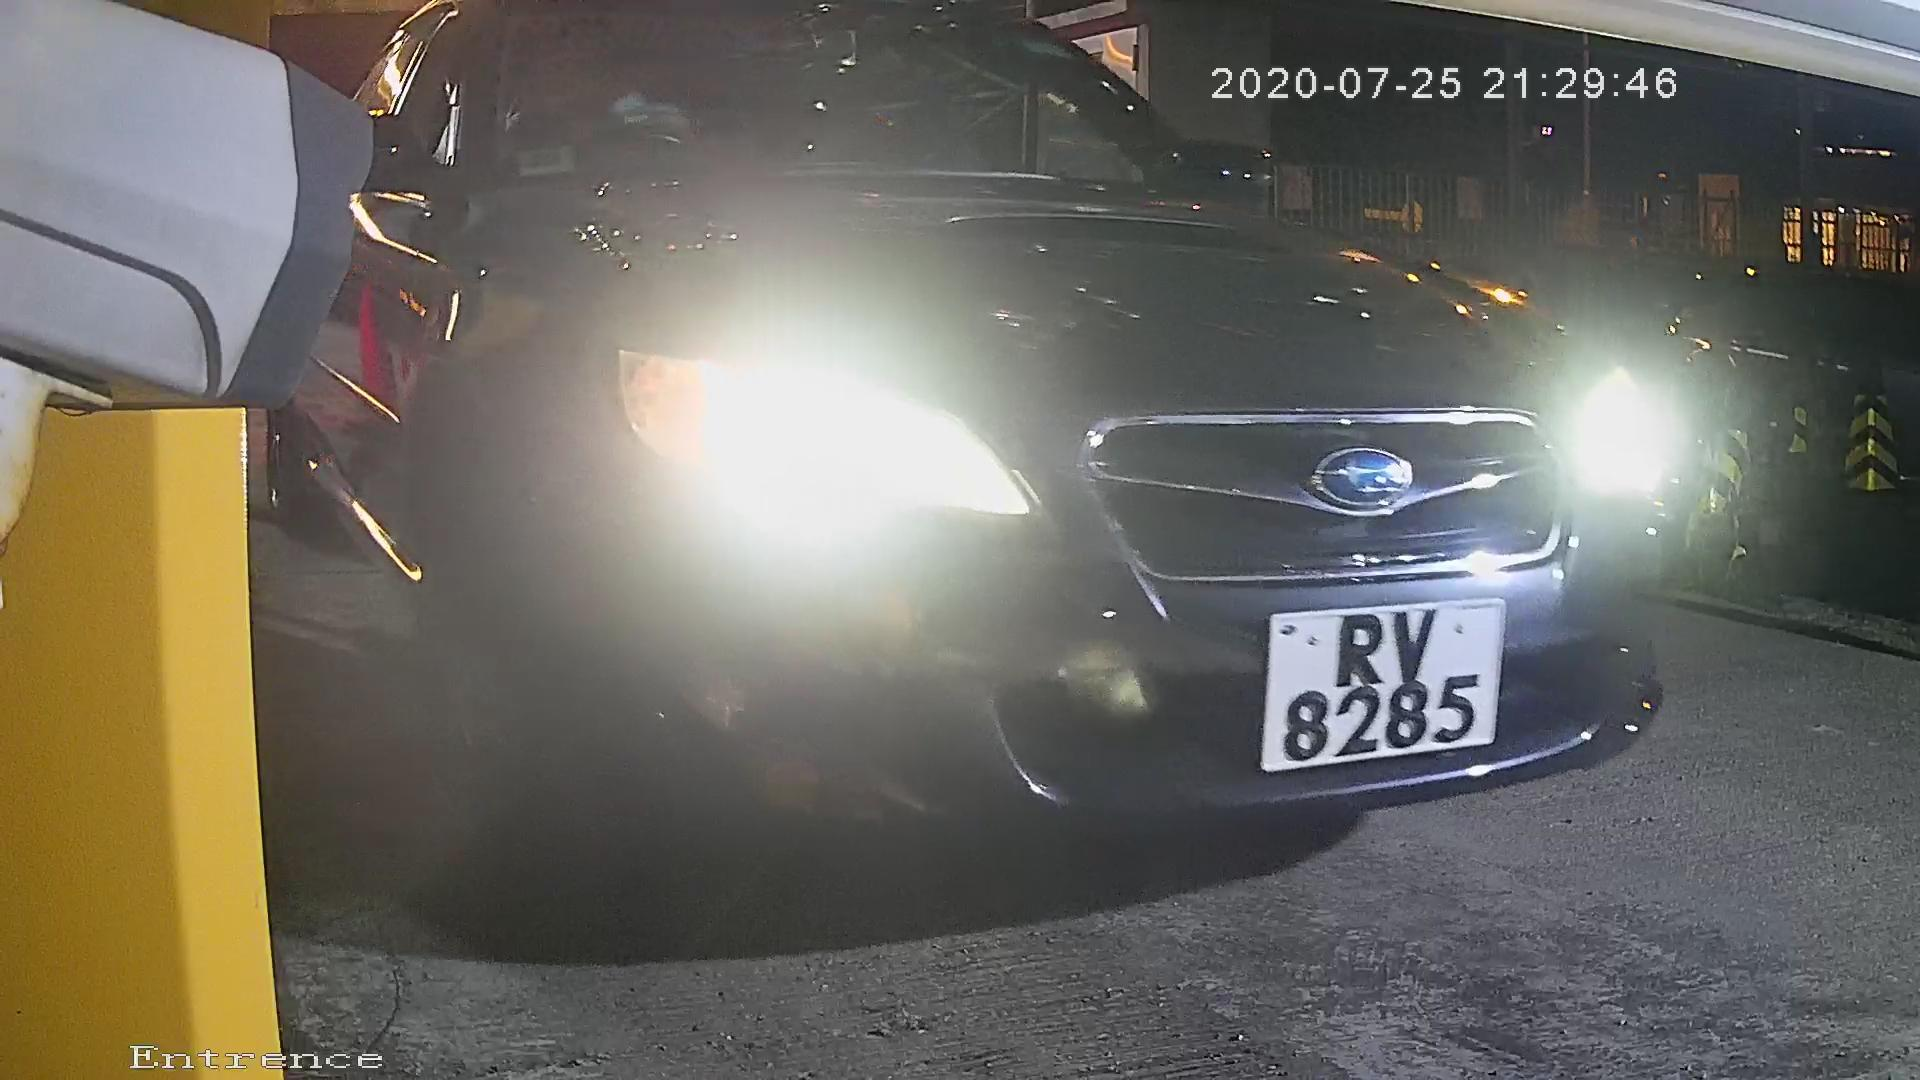privatecar: (369, 20, 1775, 945)
